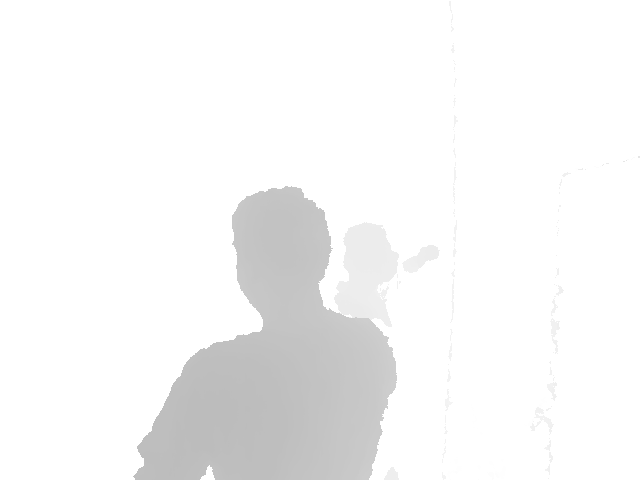head: (231, 185, 331, 316), (342, 221, 398, 295)
person: (131, 185, 399, 480), (333, 220, 443, 327)
